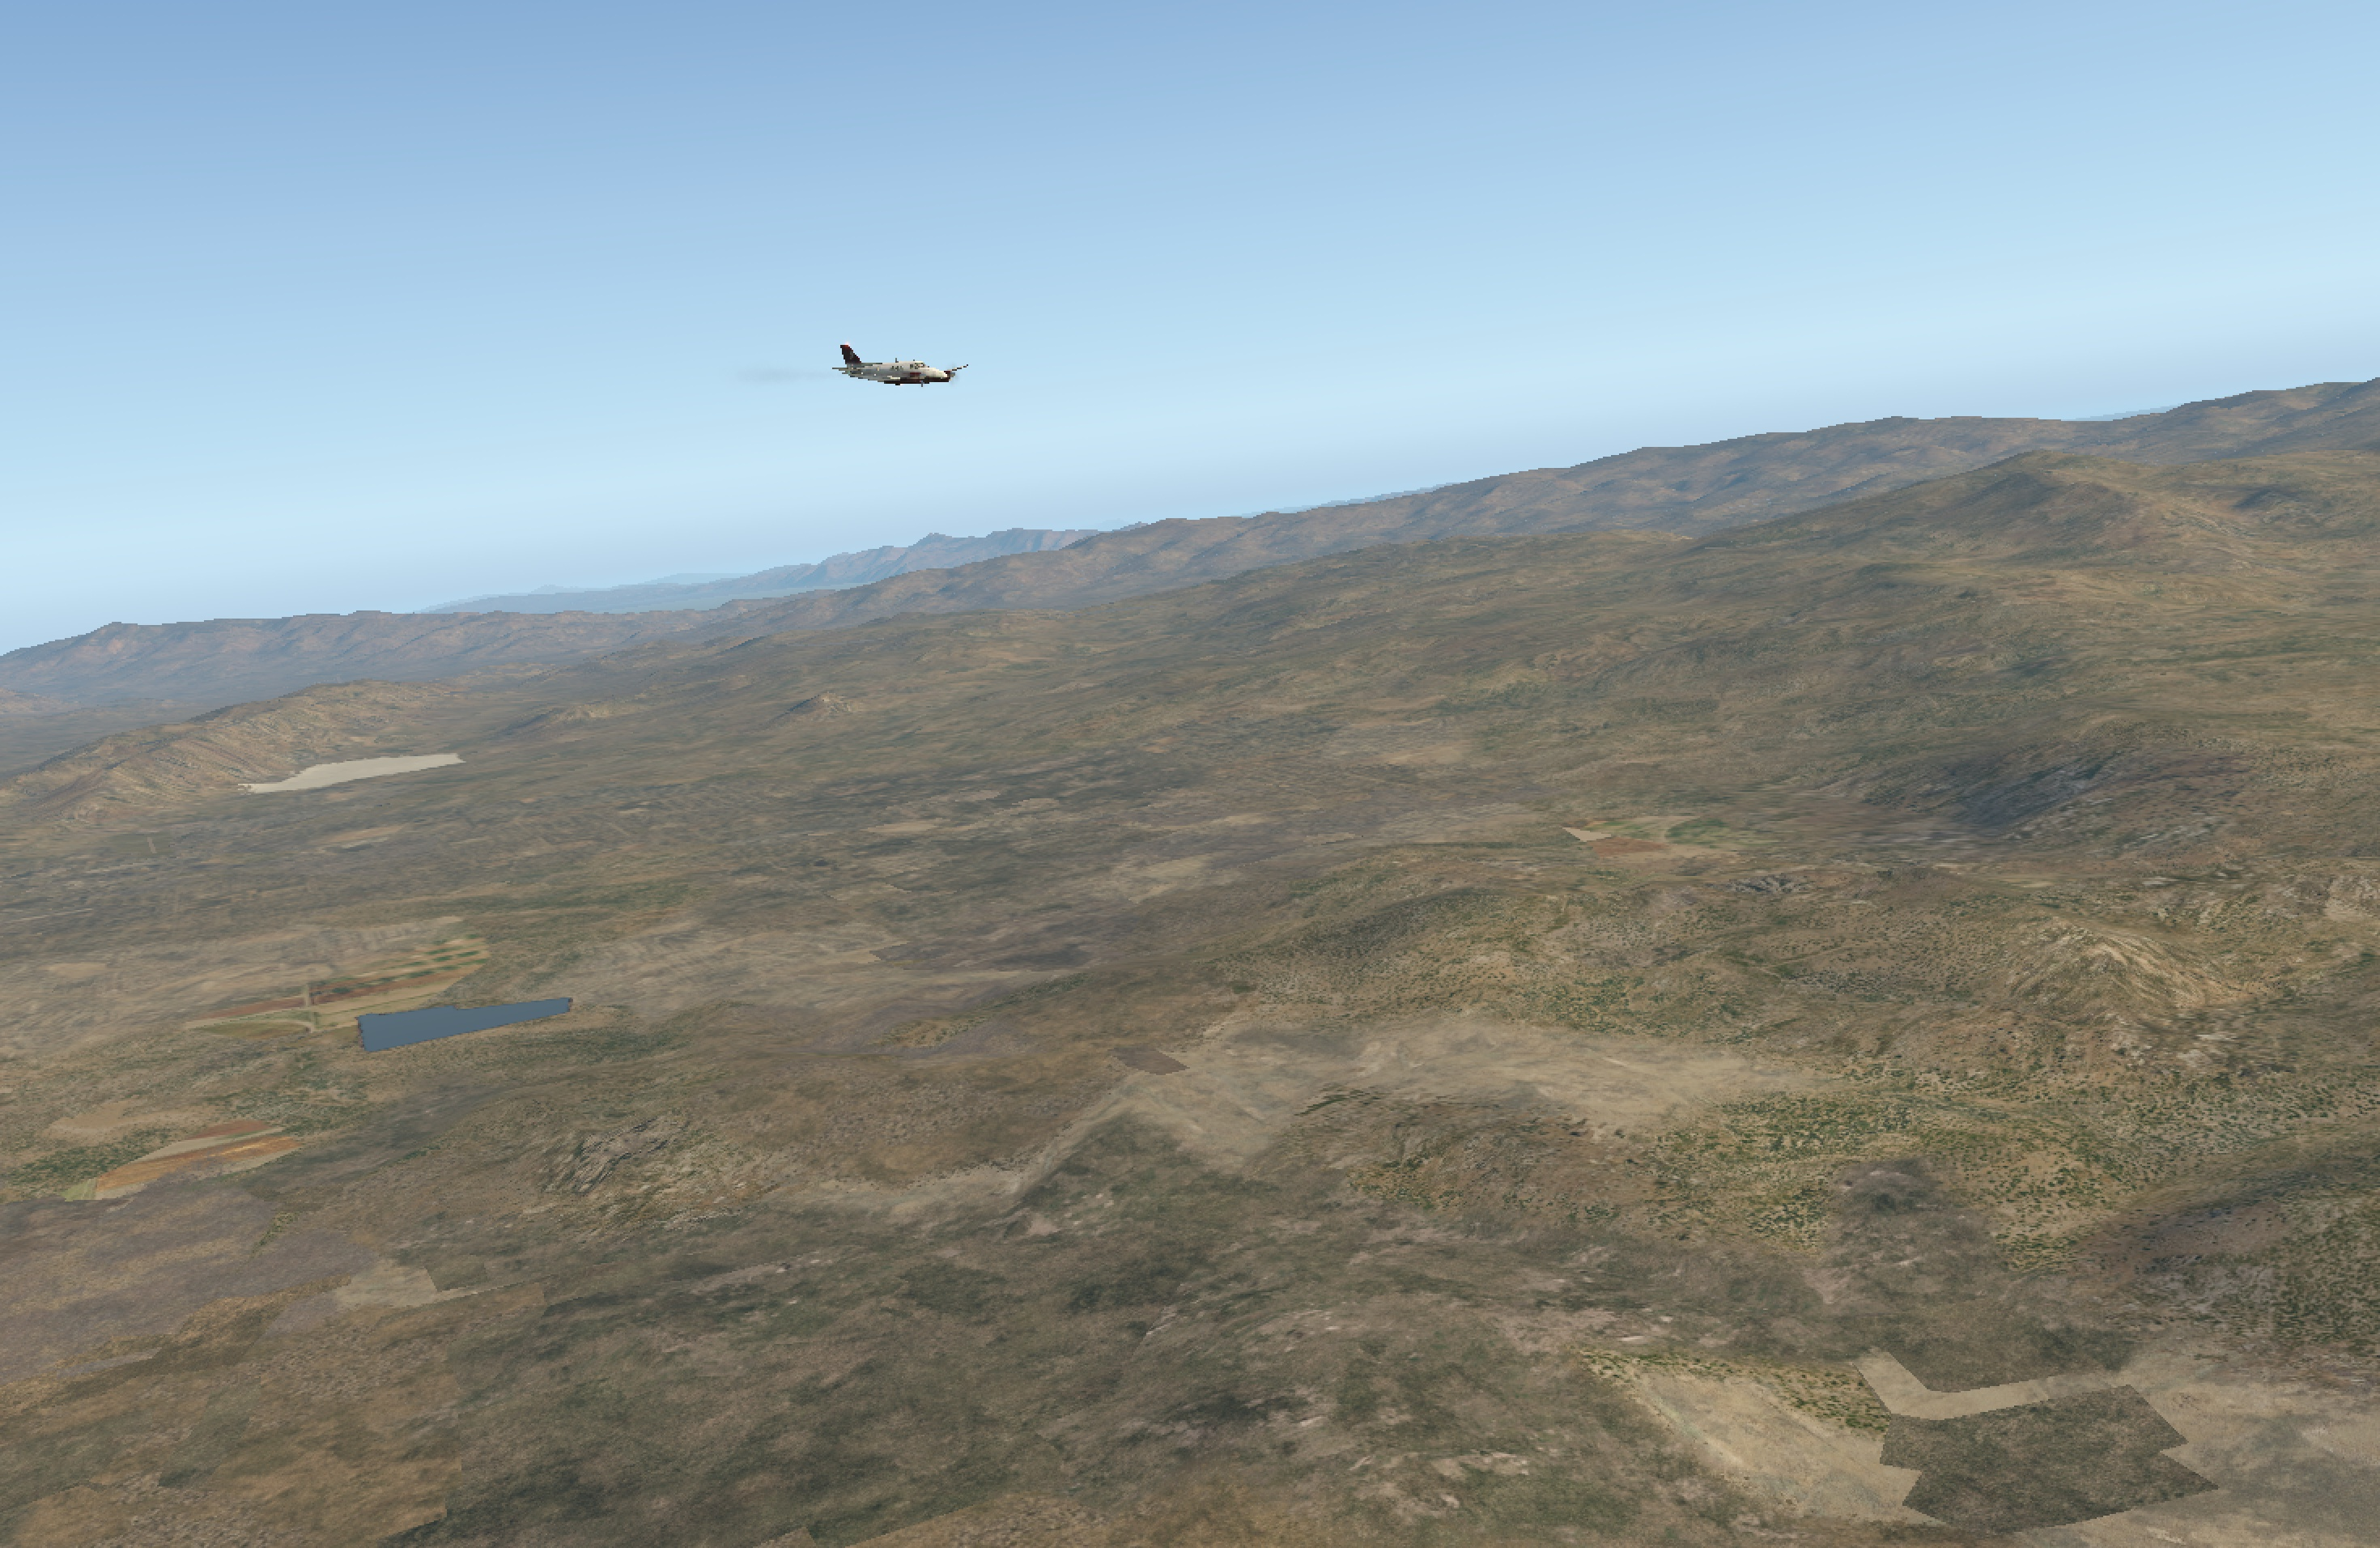aircraft: (819, 347, 1008, 417)
